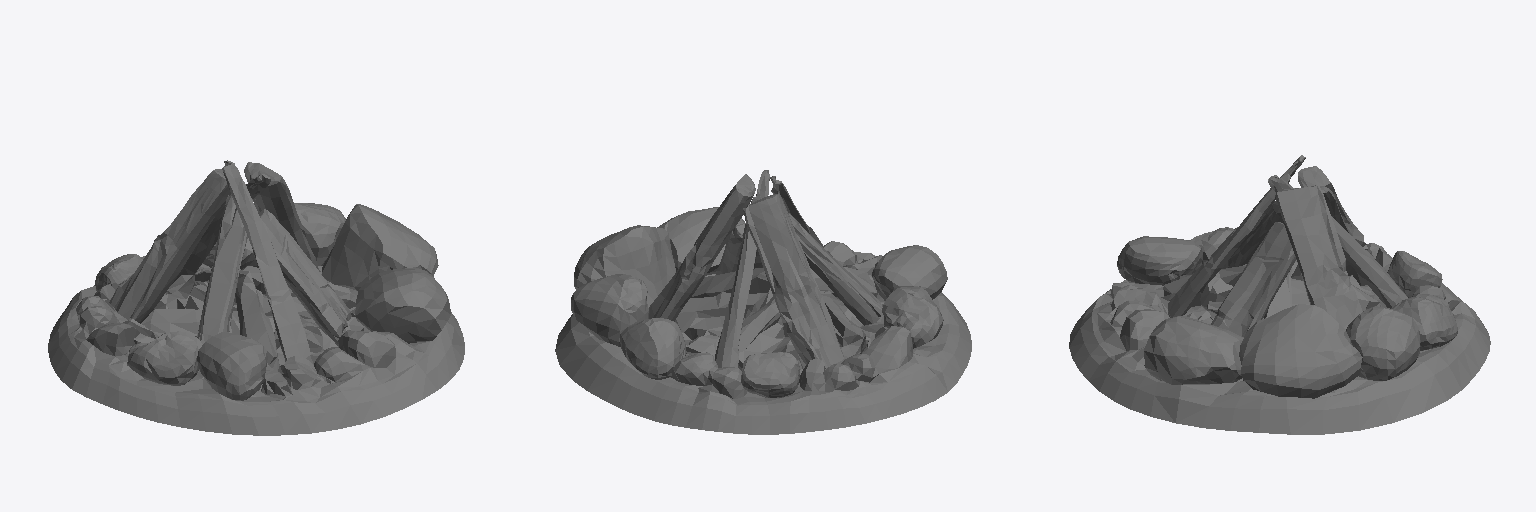
File: Campfire.obj
3 renders of one model, left to right at view 1: azimuth 30°, elevation 25°; view 2: azimuth 150°, elevation 25°; view 3: azimuth 270°, elevation 25°, orthographic.
Parts seen in each view (by area): view 1: Campfire_Base, Campfire_Woods, Campfire_Rocks; view 2: Campfire_Base, Campfire_Rocks, Campfire_Woods; view 3: Campfire_Base, Campfire_Rocks, Campfire_Woods.
Part boxes in pixels (x1,y1,x2,y2): Campfire_Base: (48, 256, 464, 435); Campfire_Woods: (109, 160, 354, 361); Campfire_Rocks: (95, 203, 450, 400); Campfire_Base: (555, 241, 971, 434); Campfire_Rocks: (571, 207, 947, 397); Campfire_Woods: (649, 170, 882, 368); Campfire_Base: (1069, 243, 1490, 434); Campfire_Rocks: (1117, 227, 1457, 398); Campfire_Woods: (1168, 155, 1407, 337).
Bounding box in the file's own units: 12.53 × 6.04 × 12.56.